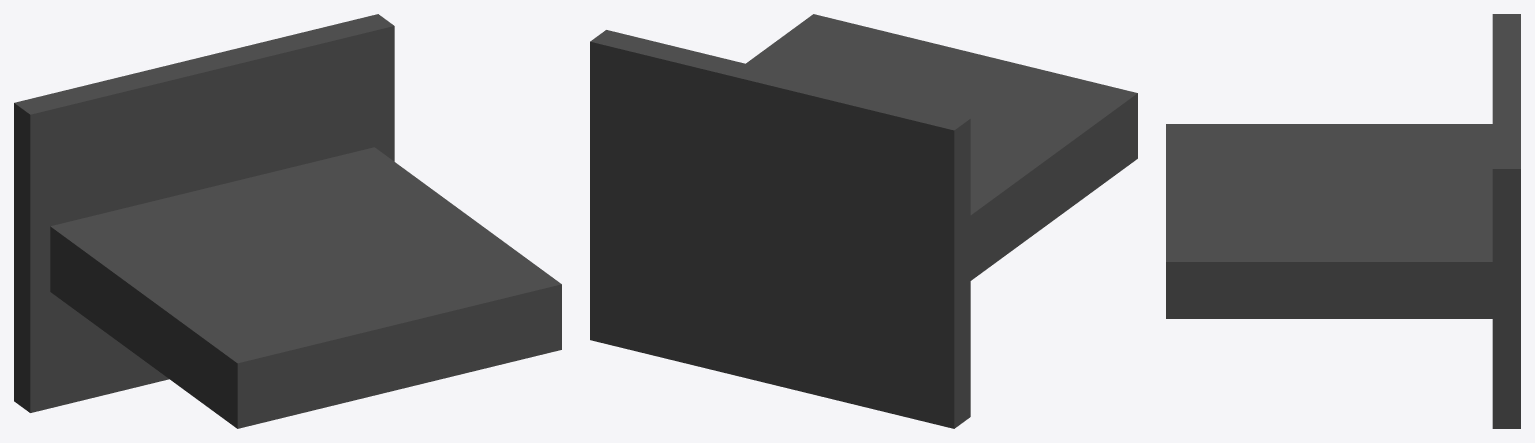
Rendered from Thor_KneeGuard.FBX.
3 renders of one model, left to right at view 1: azimuth 30°, elevation 25°; view 2: azimuth 150°, elevation 25°; view 3: azimuth 270°, elevation 25°, orthographic. The views are drawn at different scales.
Visible parts, largest first — view 1: KneeGuard_Thor; view 2: KneeGuard_Thor; view 3: KneeGuard_Thor.
Part boxes in pixels (x1=…): KneeGuard_Thor: x1=14, y1=14, x2=561, y2=428; KneeGuard_Thor: x1=590, y1=14, x2=1137, y2=428; KneeGuard_Thor: x1=1166, y1=14, x2=1520, y2=428.
Size of the model in its own units: 5.75 by 4.51 by 5.57.
1 material, 1 textured.
